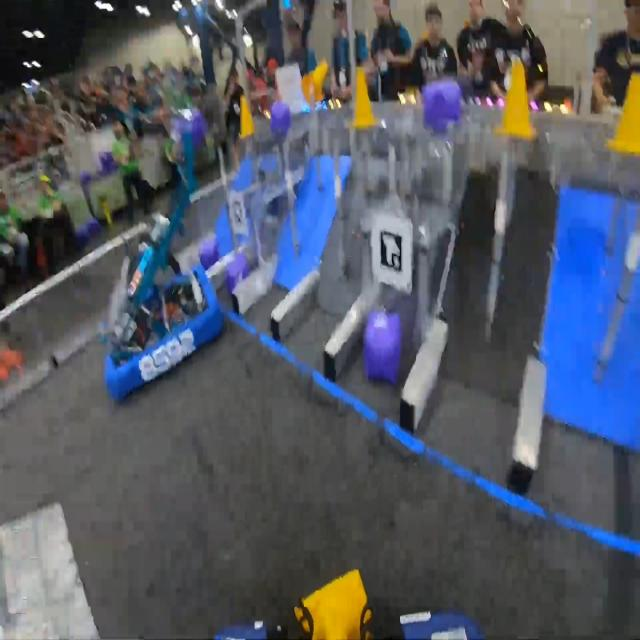robot: (100, 105, 226, 401)
